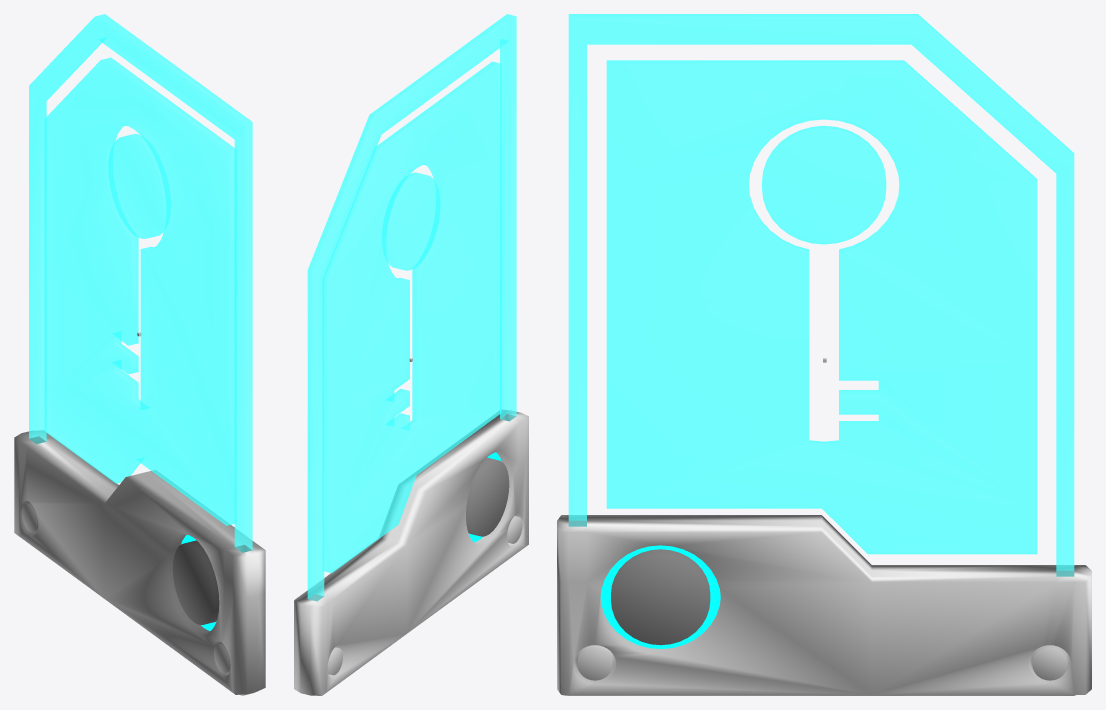
The model's file is keycard.glb.
3 renders of one model, left to right at view 1: azimuth 30°, elevation 25°; view 2: azimuth 150°, elevation 25°; view 3: azimuth 270°, elevation 25°, orthographic. The views are drawn at different scales.
Parts seen in each view (by area): view 1: Plane; view 2: Plane; view 3: Plane.
Boxes of the visible parts, <box> form: Plane: <box>14,14,265,695</box>; Plane: <box>294,14,528,695</box>; Plane: <box>557,14,1091,695</box>.
Bounding box in the file's own units: 22.3 × 405 × 291.
